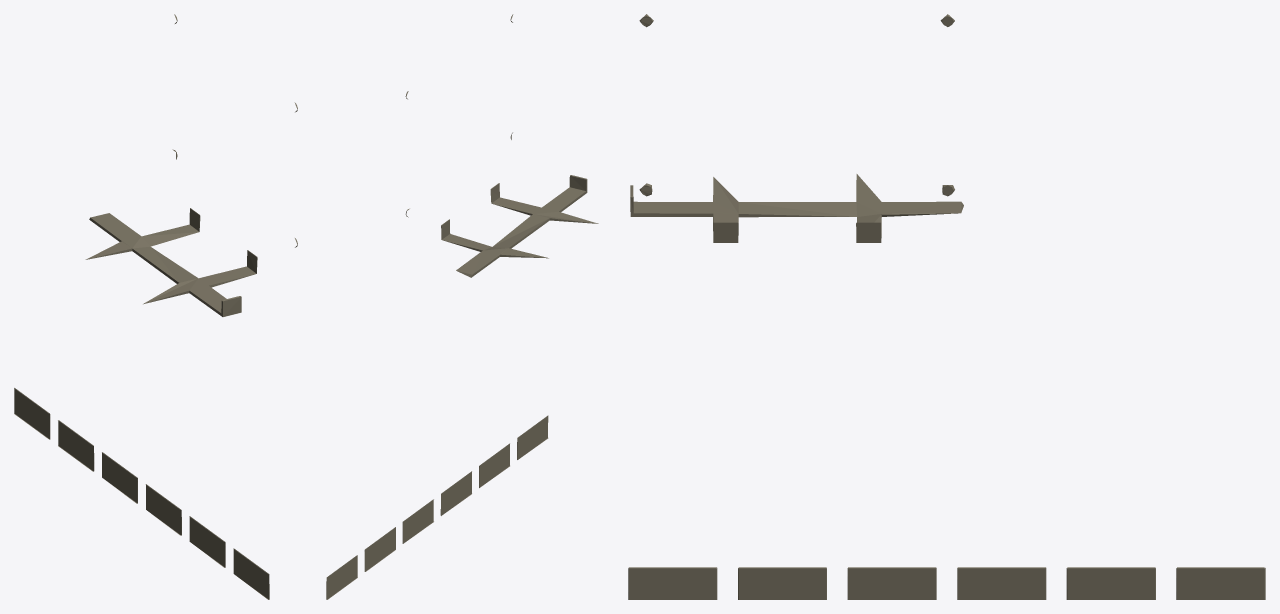
File: ew-electrical-box.lod1.glb
The picture shows the model from 3 angles, left to right: view 1: azimuth 30°, elevation 25°; view 2: azimuth 150°, elevation 25°; view 3: azimuth 270°, elevation 25°; orthographic projection. The views are drawn at different scales.
Visible parts, largest first — view 1: Electrical Box_ElecticalBox_0; view 2: Electrical Box_ElecticalBox_0; view 3: Electrical Box_ElecticalBox_0.
Part boxes in pixels (x1=…): Electrical Box_ElecticalBox_0: x1=14, y1=14, x2=297, y2=599; Electrical Box_ElecticalBox_0: x1=326, y1=14, x2=598, y2=599; Electrical Box_ElecticalBox_0: x1=628, y1=14, x2=1265, y2=599.
Bounding box in the file's own units: 0.219 × 0.7994 × 0.7618.
